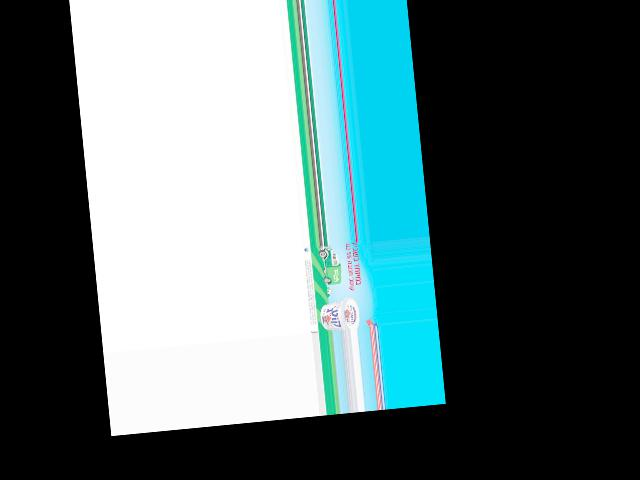cotage: (318, 296, 360, 331)
